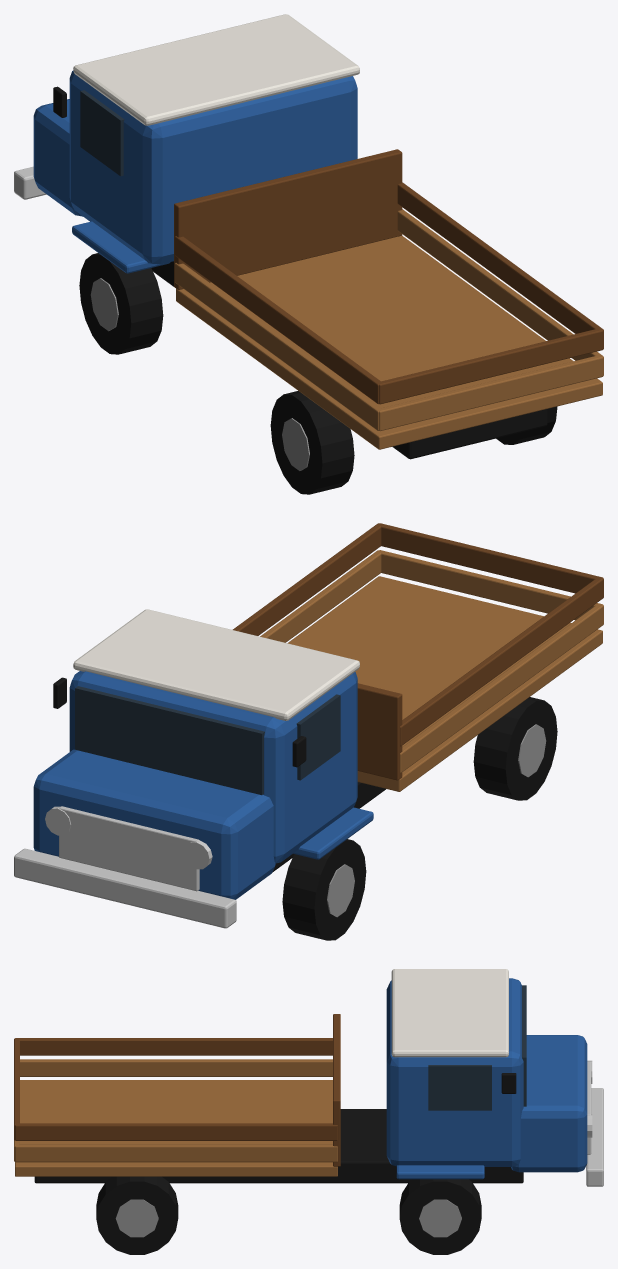
File: gockamyon.glb
3 renders of one model, top to bottom at view 1: azimuth 30°, elevation 25°; view 2: azimuth 150°, elevation 25°; view 3: azimuth 270°, elevation 25°, orthographic. The views are drawn at different scales.
Visible parts, largest first — view 1: Ayna; view 2: Ayna; view 3: Ayna.
Part boxes in pixels (x1,y1,x2,y2): Ayna: (14,14,603,494); Ayna: (14,523,603,940); Ayna: (14,969,603,1254).
Bounding box in the file's own units: 0.3847 × 0.3737 × 1.
